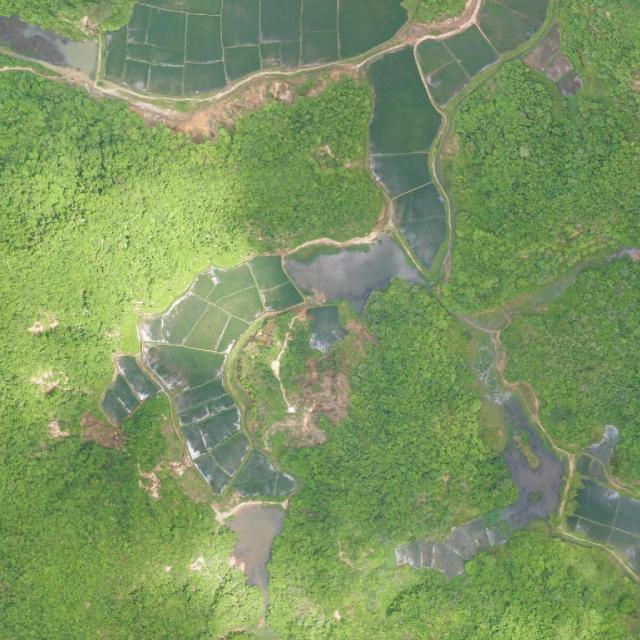agricultural_land: (97, 247, 306, 499), (105, 0, 405, 96), (401, 0, 560, 108)
greenland: (0, 72, 381, 640), (198, 265, 521, 588), (213, 265, 520, 583), (442, 1, 640, 311), (0, 1, 136, 40)
